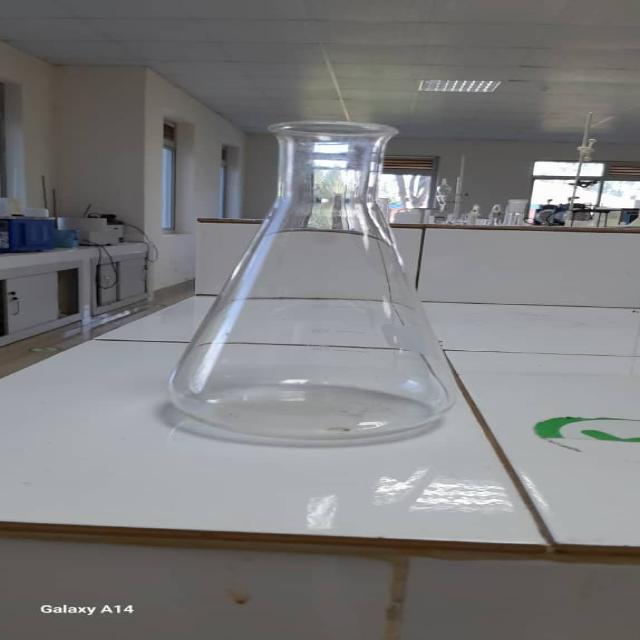Conical Flask: (149, 121, 477, 451)
